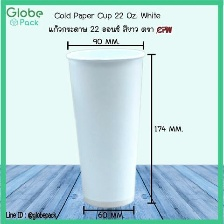paper_cup: (62, 46, 150, 210)
